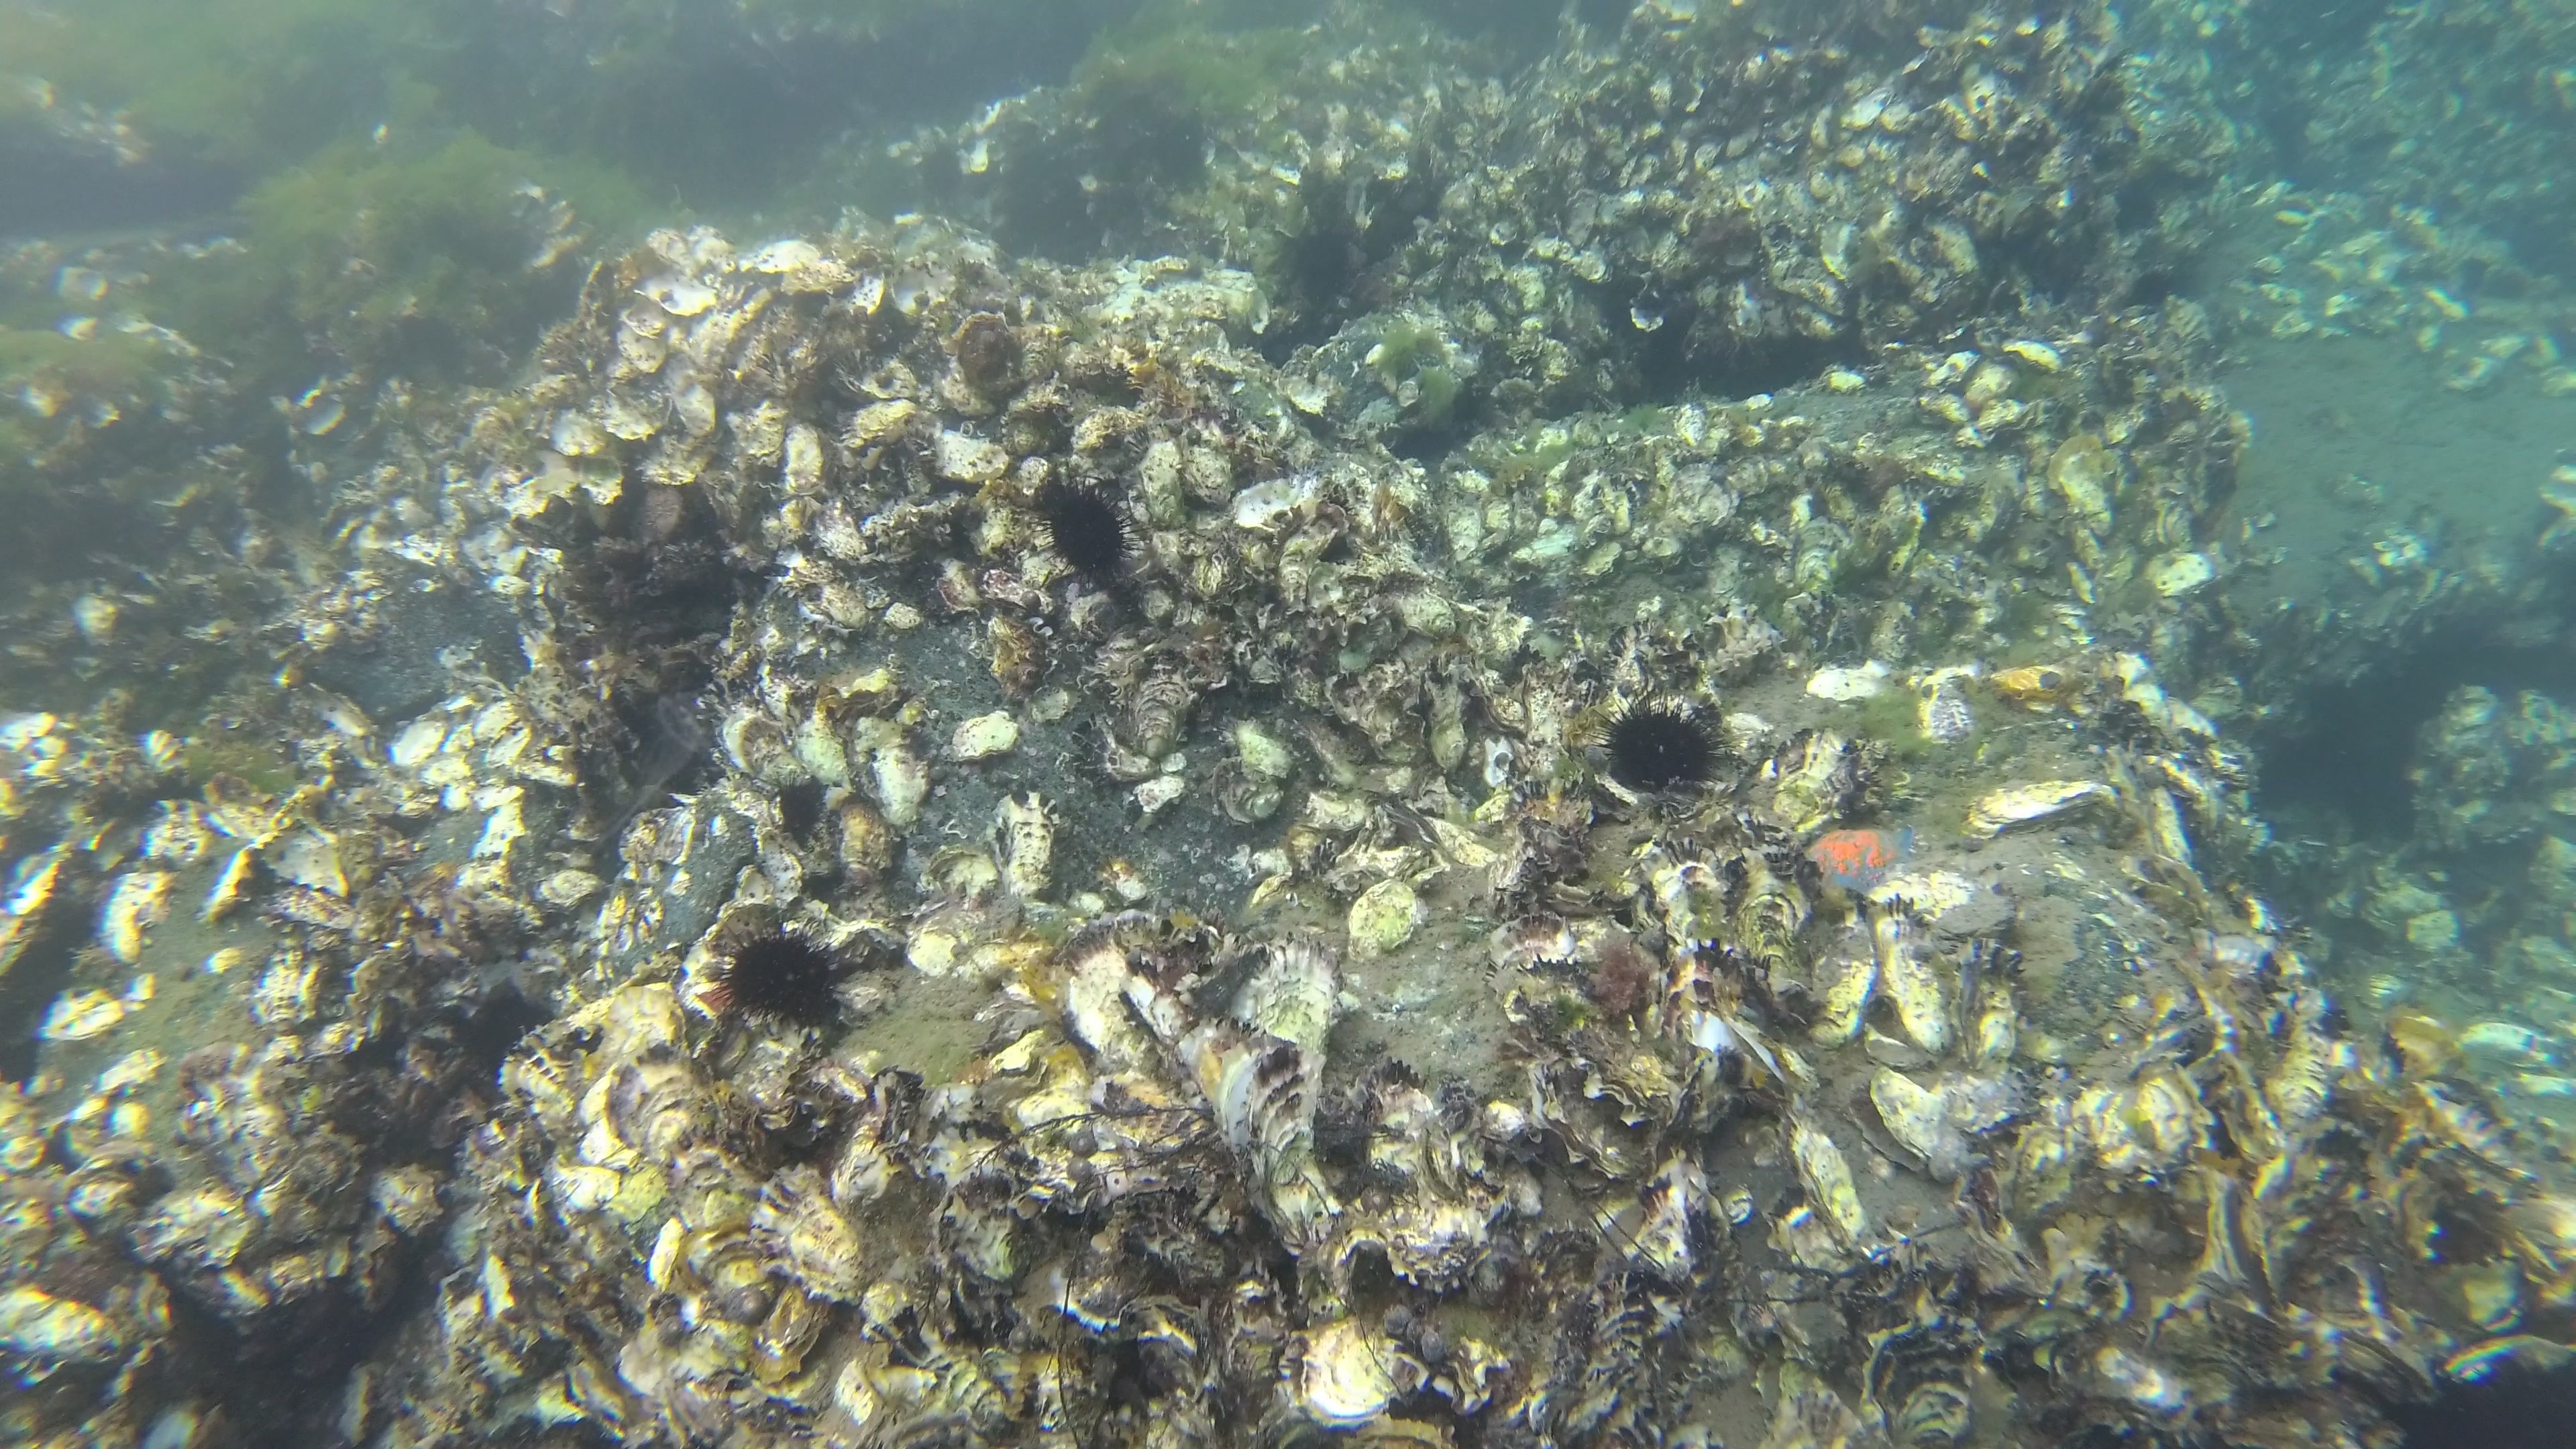echinus: (717, 920, 851, 1030), (1587, 697, 1723, 800), (1039, 471, 1139, 594)
starfish: (1801, 810, 1923, 901)
